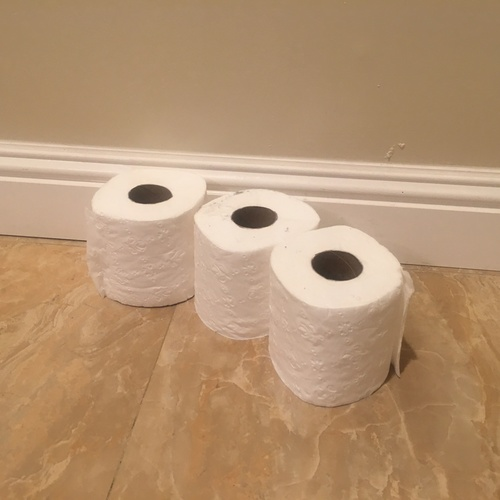roll: (270, 223, 412, 406), (193, 186, 321, 343), (86, 170, 208, 308)
